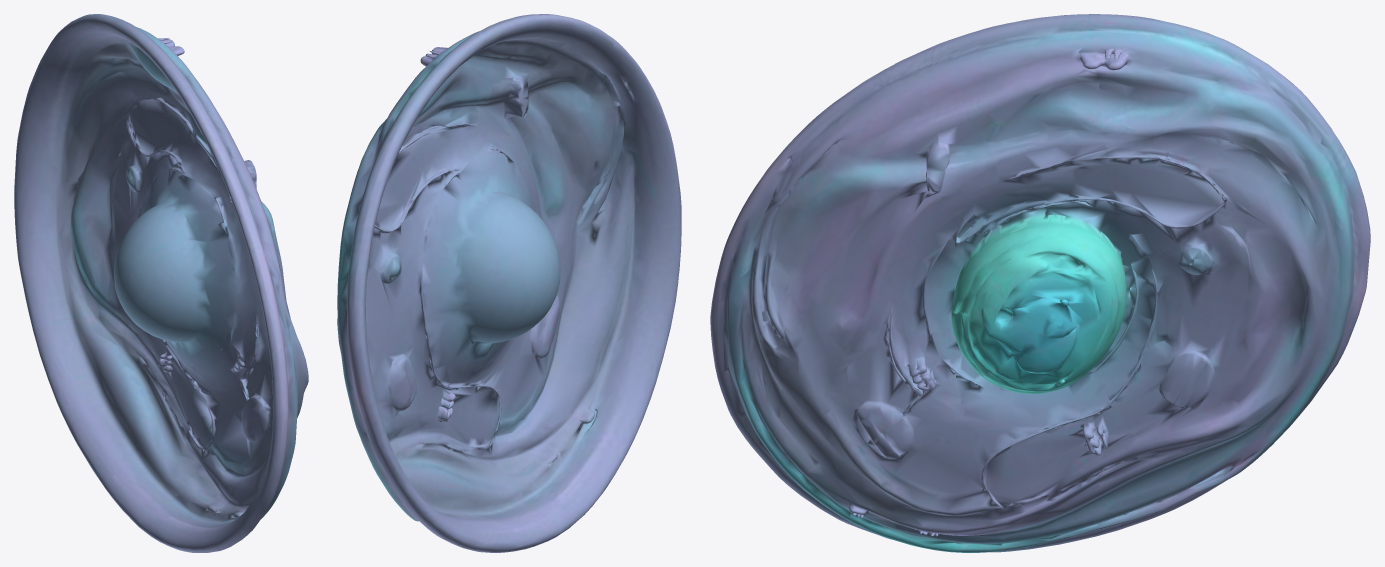
Rendered from cell.glb.
The picture shows the model from 3 angles, left to right: view 1: azimuth 30°, elevation 25°; view 2: azimuth 150°, elevation 25°; view 3: azimuth 270°, elevation 25°; orthographic projection. The views are drawn at different scales.
Parts seen in each view (by area): view 1: tripo_node_f78bf071-77f5-4a55-90e5-747310fd6e96; view 2: tripo_node_f78bf071-77f5-4a55-90e5-747310fd6e96; view 3: tripo_node_f78bf071-77f5-4a55-90e5-747310fd6e96.
Part boxes in pixels (x1,y1,x2,y2): tripo_node_f78bf071-77f5-4a55-90e5-747310fd6e96: (14,14,308,552); tripo_node_f78bf071-77f5-4a55-90e5-747310fd6e96: (337,14,681,552); tripo_node_f78bf071-77f5-4a55-90e5-747310fd6e96: (710,14,1370,552).
Size of the model in its own units: 0.2674 by 0.907 by 0.9792.
1 material, 1 textured.
